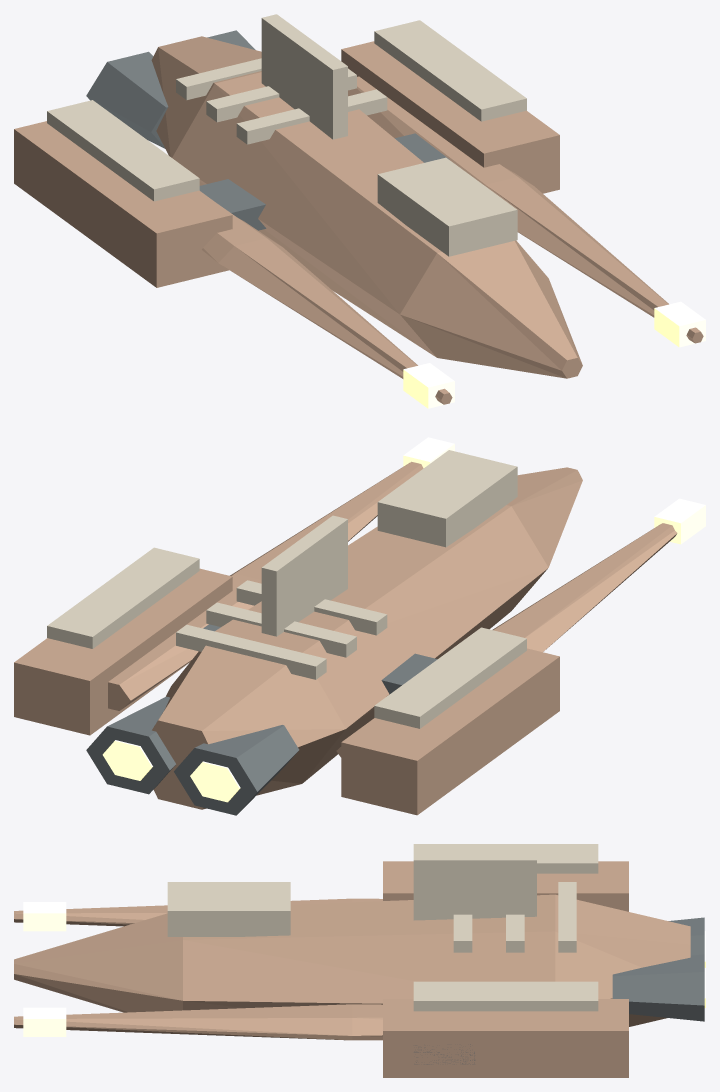
3 views of the same model, one above another, from view 1: azimuth 30°, elevation 25°; view 2: azimuth 150°, elevation 25°; view 3: azimuth 270°, elevation 25° (orthographic). The views are drawn at different scales.
Size of the model in its own units: 2.48 by 1.15 by 4.27.
